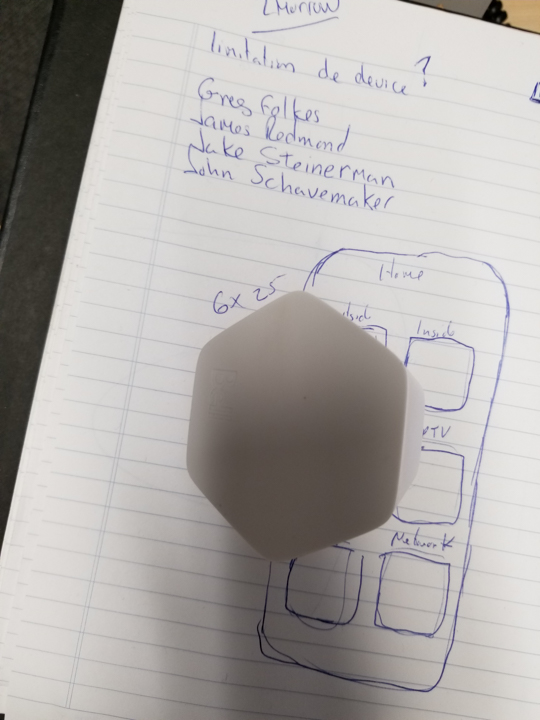pod: (183, 285, 430, 566)
